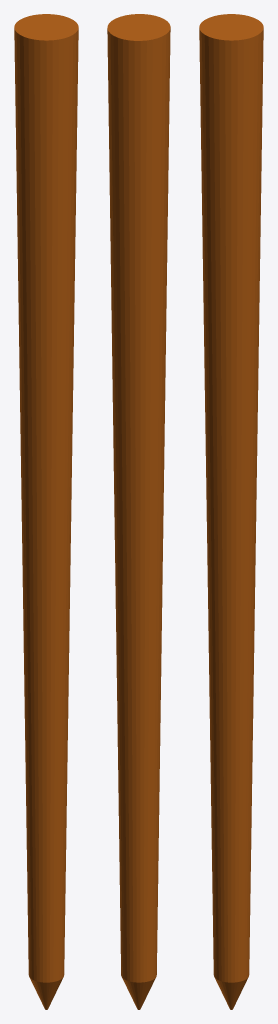
The model's file is pencil.fbx.
The picture shows the model from 3 angles, left to right: view 1: azimuth 90°, elevation 25°; view 2: azimuth 150°, elevation 25°; view 3: azimuth 270°, elevation 25°; orthographic projection.
Visible parts, largest first — view 1: Cylinder; view 2: Cylinder; view 3: Cylinder.
Part boxes in pixels (<box>): Cylinder: <box>14,14,78,1009</box>; Cylinder: <box>107,14,170,1009</box>; Cylinder: <box>199,14,263,1009</box>.
Size of the model in its own units: 4.67 by 80.52 by 4.79.
